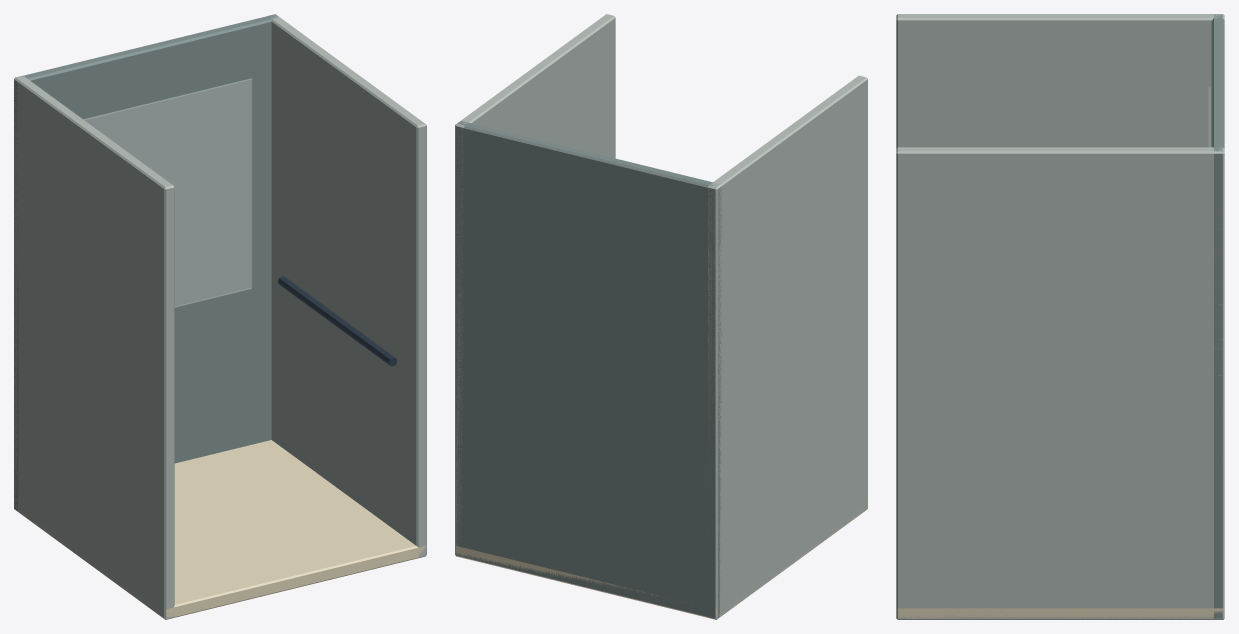
Rendered from elevator_cabin.glb.
3 renders of one model, left to right at view 1: azimuth 30°, elevation 25°; view 2: azimuth 150°, elevation 25°; view 3: azimuth 270°, elevation 25°, orthographic. The views are drawn at different scales.
Visible parts, largest first — view 1: elevator_cabin__steel, elevator_cabin__metal_light, elevator_cabin__tile_cream, elevator_cabin__glass, elevator_cabin__metal; view 2: elevator_cabin__metal_light, elevator_cabin__steel, elevator_cabin__tile_cream; view 3: elevator_cabin__steel, elevator_cabin__metal_light, elevator_cabin__tile_cream.
Part boxes in pixels (<box>): elevator_cabin__steel: <box>14,14,426,619</box>; elevator_cabin__metal_light: <box>14,14,277,510</box>; elevator_cabin__tile_cream: <box>14,440,426,619</box>; elevator_cabin__glass: <box>83,78,251,307</box>; elevator_cabin__metal: <box>278,276,396,366</box>; elevator_cabin__metal_light: <box>456,121,721,618</box>; elevator_cabin__steel: <box>455,14,867,619</box>; elevator_cabin__tile_cream: <box>455,500,866,618</box>; elevator_cabin__steel: <box>896,14,1224,619</box>; elevator_cabin__metal_light: <box>1211,14,1224,618</box>; elevator_cabin__tile_cream: <box>897,608,1223,618</box>.
Bounding box in the file's own units: 1.5 × 2.36 × 1.5.
